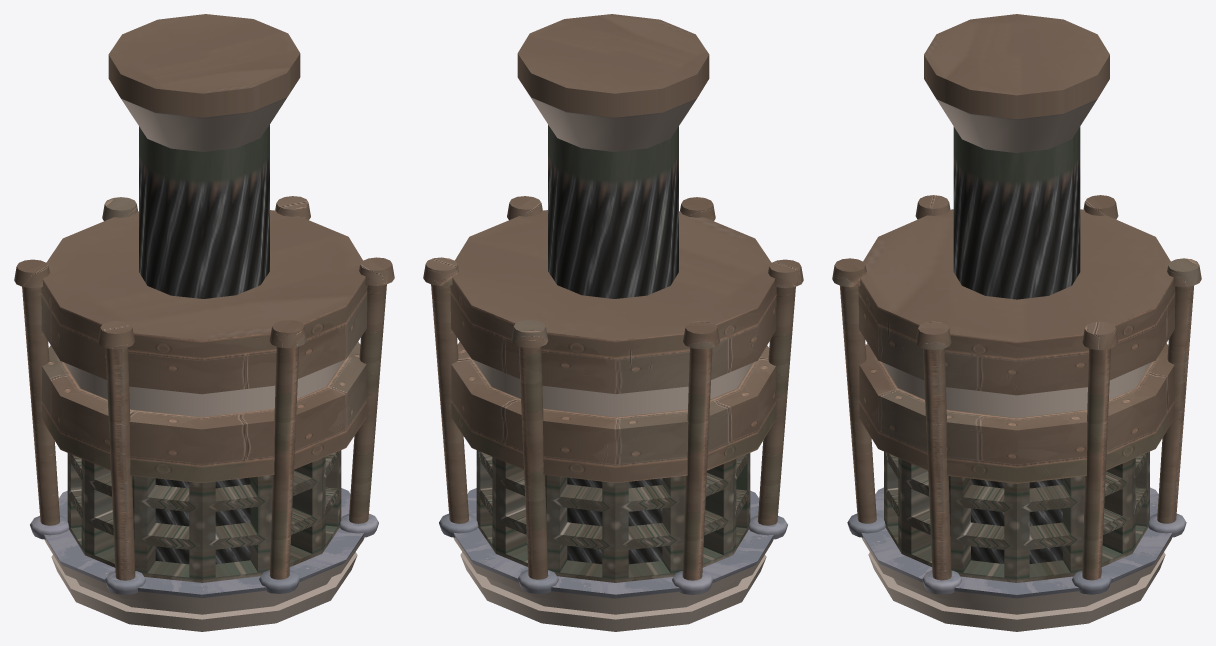
File: Press.fbx
3 renders of one model, left to right at view 1: azimuth 30°, elevation 25°; view 2: azimuth 150°, elevation 25°; view 3: azimuth 270°, elevation 25°, orthographic.
Visible parts, largest first — view 1: Press, Press_Holder; view 2: Press, Press_Holder; view 3: Press, Press_Holder.
Boxes of the visible parts, left/top/right/bottom form: Press: left=14, top=196, right=394, bottom=631; Press_Holder: left=108, top=14, right=300, bottom=298; Press: left=423, top=196, right=803, bottom=631; Press_Holder: left=517, top=14, right=709, bottom=298; Press: left=832, top=195, right=1201, bottom=631; Press_Holder: left=924, top=14, right=1109, bottom=299.
Bounding box in the file's own units: 200 × 338 × 220.
